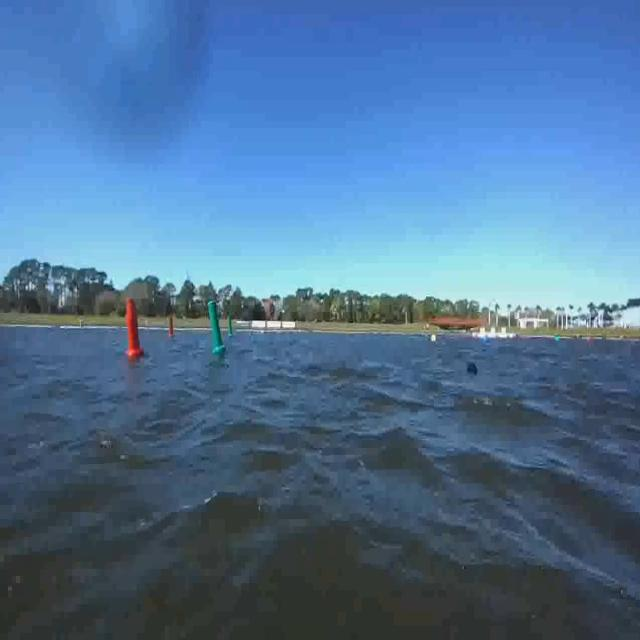green-buoy: (556, 336, 562, 344)
green-column-buoy: (207, 301, 227, 355), (226, 314, 234, 340)
red-column-buoy: (125, 297, 145, 357), (169, 314, 176, 336)
yellow-buoy: (430, 334, 437, 344)
